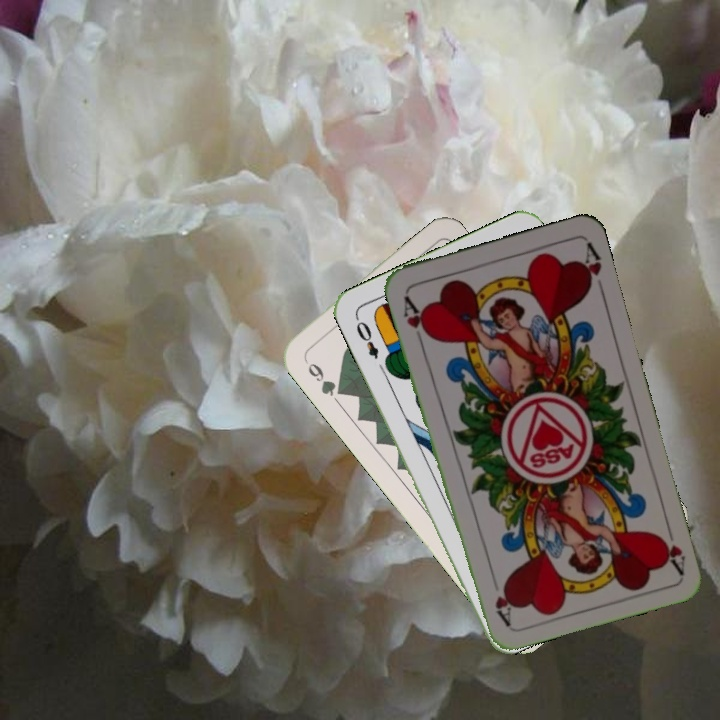EO: (351, 313, 381, 362)
G9: (299, 353, 348, 399)
HA: (654, 517, 688, 576), (399, 291, 433, 348)
